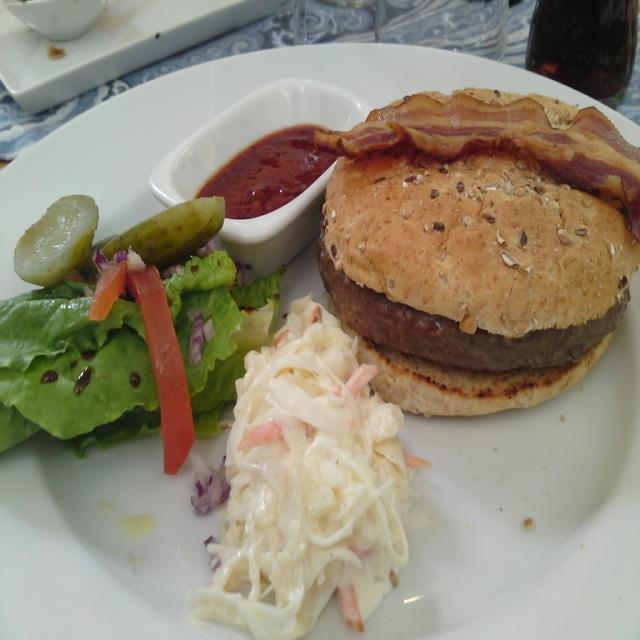Sandwich: (318, 93, 640, 418)
